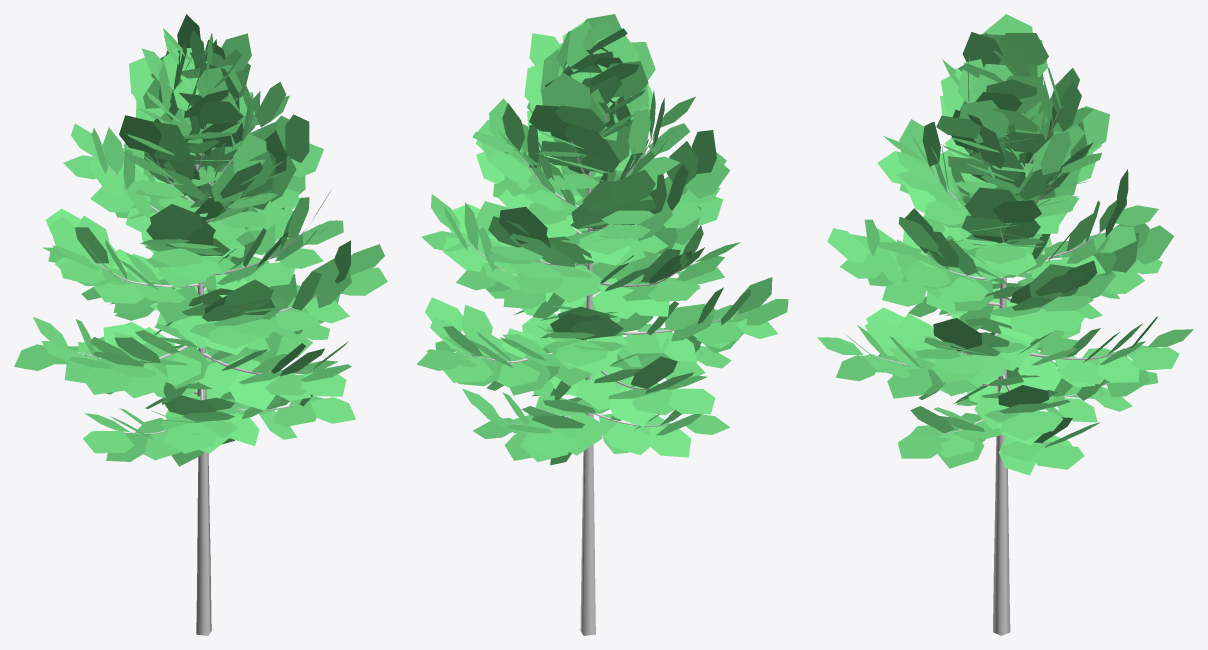
The model's file is Qauking_Aspen_2.glb.
3 views of the same model, side by side, from view 1: azimuth 30°, elevation 25°; view 2: azimuth 150°, elevation 25°; view 3: azimuth 270°, elevation 25° (orthographic). The views are drawn at different scales.
Visible parts, largest first — view 1: leaves, tree; view 2: leaves, tree; view 3: leaves, tree.
Part boxes in pixels (x1,y1,x2,y2): leaves: (14,14,387,466); tree: (77,115,319,635); leaves: (417,14,788,465); tree: (460,103,747,635); leaves: (817,14,1193,475); tree: (864,109,1146,635).
Bounding box in the file's own units: 7.37 × 13.16 × 7.49.
